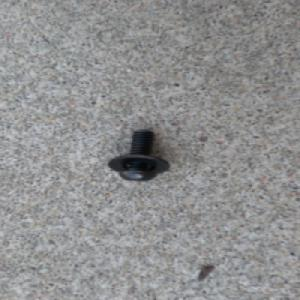BoltWasher: (106, 128, 171, 182)
